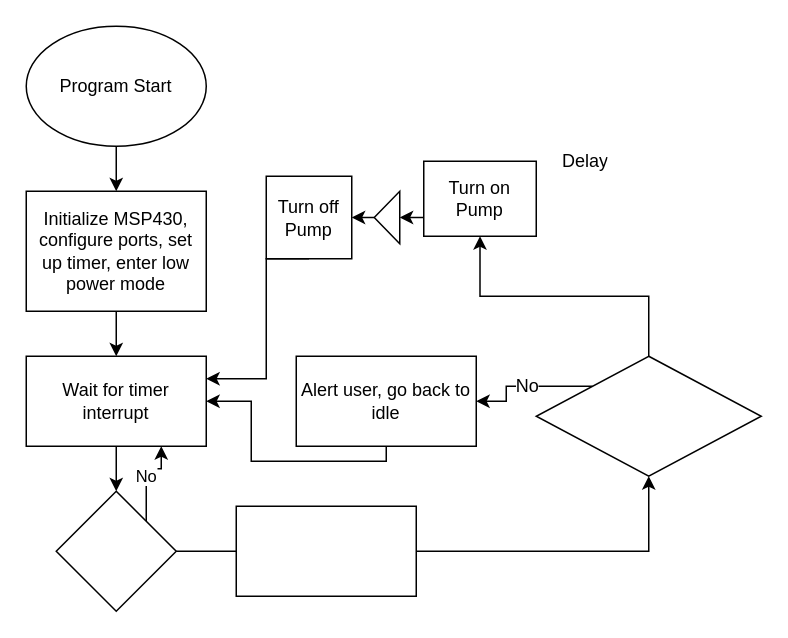
Image size: 788x638. Some labels were removed from this diagram. The shapes that lost their labels are listed below. From the top down, each one's centre as x and y in pixels, then its label:
pixel 648 415: Safe to turn on pump?
pixel 115 550: Timer Interrupt?
pixel 325 550: Measure water level
